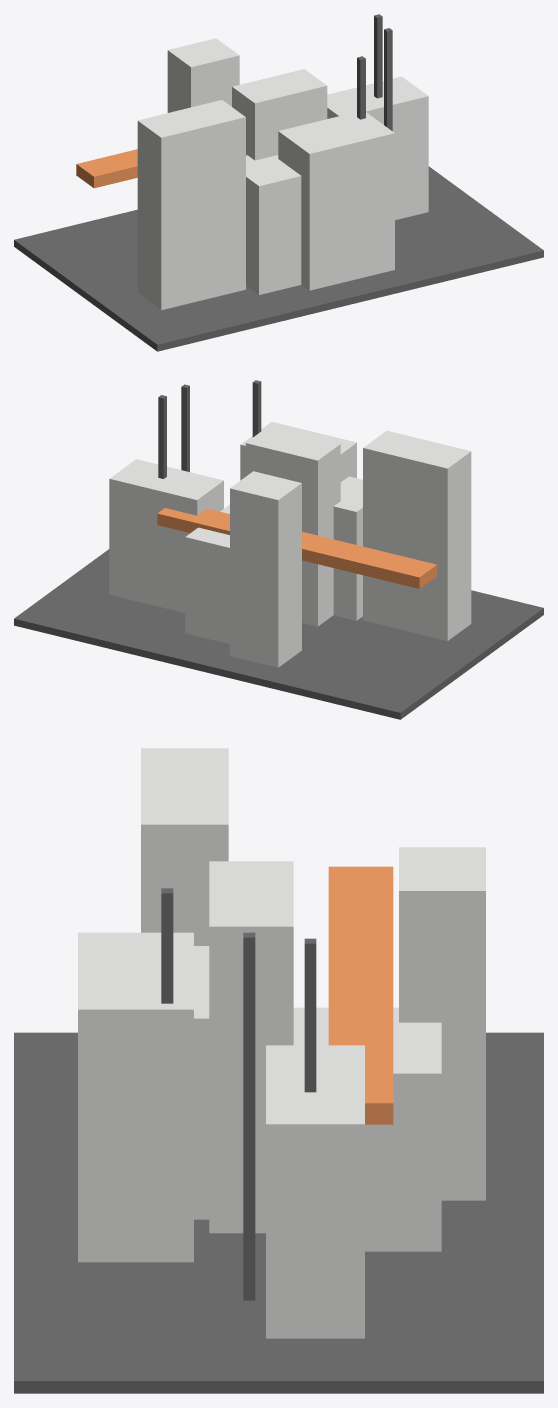
File: model.CMiY3JrE.glb
The picture shows the model from 3 angles, top to bottom: view 1: azimuth 30°, elevation 25°; view 2: azimuth 150°, elevation 25°; view 3: azimuth 270°, elevation 25°; orthographic projection. The views are drawn at different scales.
Visible parts, largest first — view 1: placeholder-massing; view 2: placeholder-massing; view 3: placeholder-massing.
Boxes of the visible parts, x1,y1,x2,y2 form: placeholder-massing: (14,14,543,351); placeholder-massing: (14,380,543,719); placeholder-massing: (14,748,543,1393).
Bounding box in the file's own units: 14 × 7.04 × 9.
